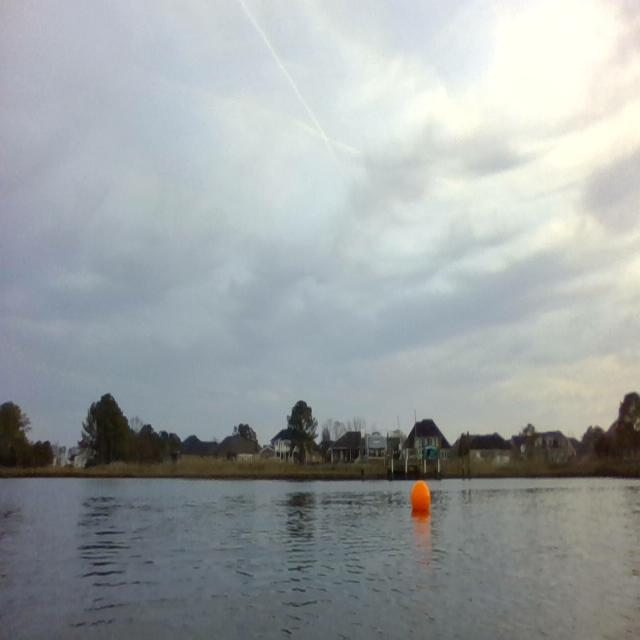Buoy: (409, 478, 431, 513)
